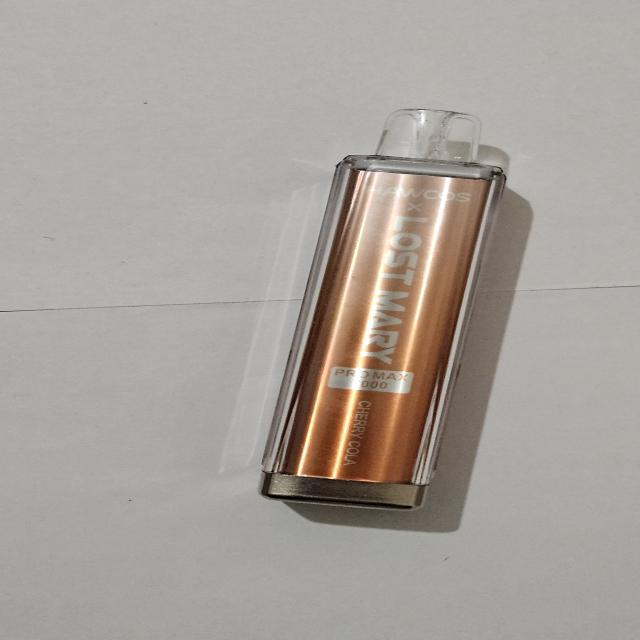Hazard: (256, 107, 508, 511)
